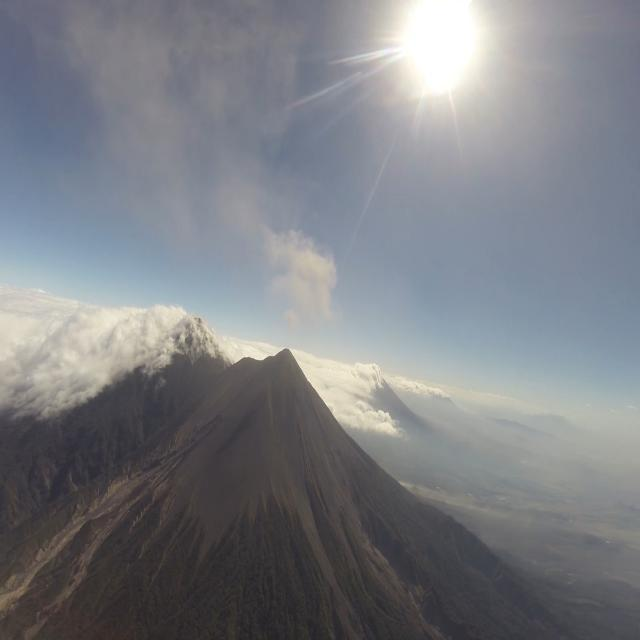Plume: (270, 227, 336, 328)
Summit: (261, 344, 306, 373)
